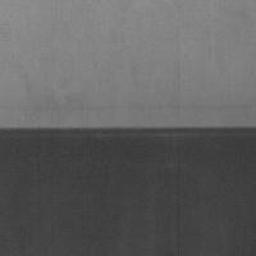Welding line: (0, 125, 256, 133)
